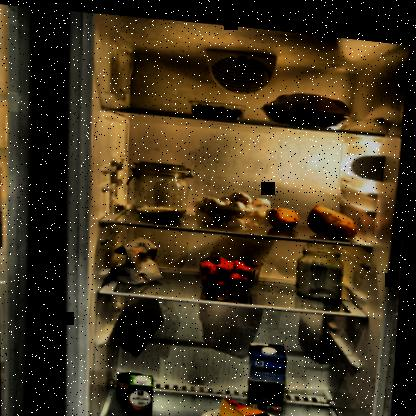blueberries: (188, 93, 250, 116)
cheese: (218, 388, 282, 415)
chicken: (258, 79, 357, 125)
corn: (120, 367, 154, 400)
heavy_cream: (130, 369, 160, 415)
milk: (248, 332, 293, 406)
mushrooms: (201, 180, 277, 230)
strawberries: (200, 246, 268, 290)
sweet_potato: (305, 195, 365, 231), (271, 198, 304, 225)
